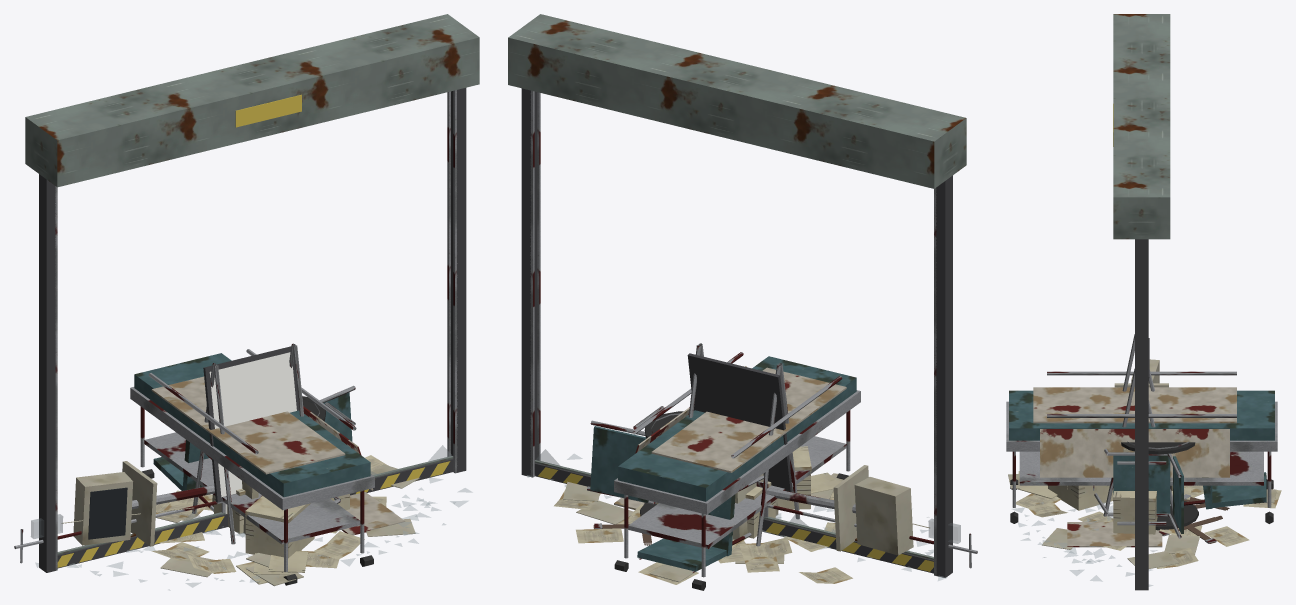
Rendered from mp_dressing.glb.
3 renders of one model, left to right at view 1: azimuth 30°, elevation 25°; view 2: azimuth 150°, elevation 25°; view 3: azimuth 270°, elevation 25°, orthographic. The views are drawn at different scales.
Visible parts, largest first — view 1: mp_shutter_frame, mp_gurney_sheet, mp_notice_board, mp_monitor_tipped, mp_papers, mp_boxes, mp_shutter_bar, mp_glass_shards, mp_wheelchair_tipped, mp_chair_tipped, mp_ivstand_tipped, mp_shutter_slat; view 2: mp_shutter_frame, mp_gurney_sheet, mp_notice_board, mp_monitor_tipped, mp_papers, mp_wheelchair_tipped, mp_shutter_bar, mp_chair_tipped, mp_boxes, mp_ivstand_tipped, mp_glass_shards; view 3: mp_gurney_sheet, mp_shutter_frame, mp_wheelchair_tipped, mp_papers, mp_boxes, mp_chair_tipped, mp_glass_shards, mp_notice_board, mp_straps, mp_monitor_tipped.
Boxes of the visible parts, <box> form: mp_shutter_frame: <box>25,14,479,572</box>; mp_gurney_sheet: <box>130,349,405,585</box>; mp_notice_board: <box>192,343,304,544</box>; mp_monitor_tipped: <box>73,461,258,546</box>; mp_papers: <box>151,455,419,577</box>; mp_boxes: <box>214,488,349,586</box>; mp_shutter_bar: <box>57,458,453,568</box>; mp_glass_shards: <box>35,445,472,590</box>; mp_wheelchair_tipped: <box>302,385,355,503</box>; mp_chair_tipped: <box>153,440,213,511</box>; mp_ivstand_tipped: <box>14,501,223,563</box>; mp_shutter_slat: <box>57,456,453,554</box>; mp_shutter_frame: <box>508,14,966,577</box>; mp_gurney_sheet: <box>614,352,860,590</box>; mp_notice_board: <box>687,343,799,546</box>; mp_monitor_tipped: <box>733,465,913,555</box>; mp_papers: <box>554,481,852,584</box>; mp_wheelchair_tipped: <box>587,406,683,516</box>; mp_shutter_bar: <box>534,462,933,573</box>; mp_chair_tipped: <box>637,475,763,572</box>; mp_boxes: <box>644,446,843,538</box>; mp_ivstand_tipped: <box>766,504,977,568</box>; mp_glass_shards: <box>527,449,947,580</box>; mp_gurney_sheet: <box>1006,371,1277,547</box>; mp_shutter_frame: <box>1113,14,1170,590</box>; mp_wheelchair_tipped: <box>1093,441,1198,538</box>; mp_papers: <box>1016,485,1281,568</box>; mp_boxes: <box>1008,448,1157,534</box>; mp_chair_tipped: <box>1170,472,1266,509</box>; mp_glass_shards: <box>1012,502,1157,586</box>; mp_notice_board: <box>1103,334,1172,516</box>; mp_straps: <box>1159,494,1229,543</box>; mp_monitor_tipped: <box>1114,359,1172,490</box>.
Size of the model in its own units: 3.4 by 3.31 by 2.03.
Materials: 19 (9 with a texture image).
